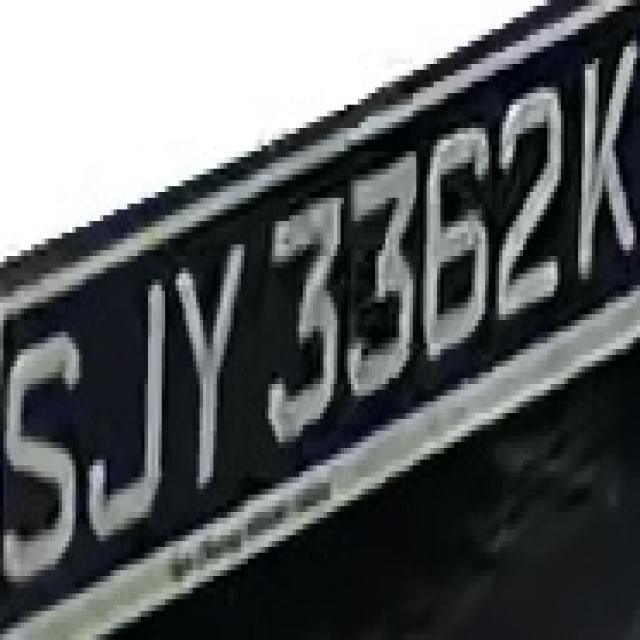2: (492, 76, 568, 332)
3: (268, 180, 348, 448), (344, 140, 423, 407)
6: (416, 110, 496, 367)
J: (79, 262, 176, 558)
K: (567, 29, 640, 285)
S: (7, 308, 82, 576)
Y: (162, 210, 255, 500)
